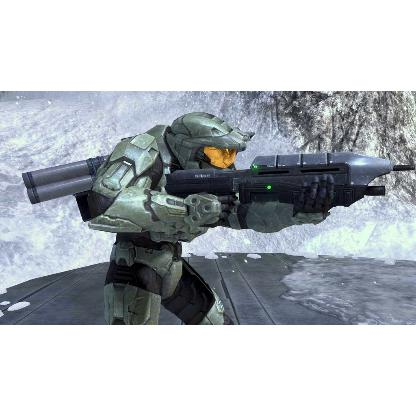gun: (108, 140, 406, 232)
